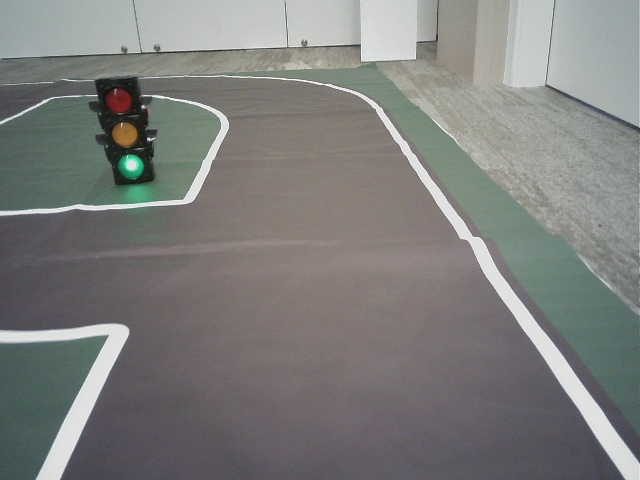green: (102, 84, 148, 177)
